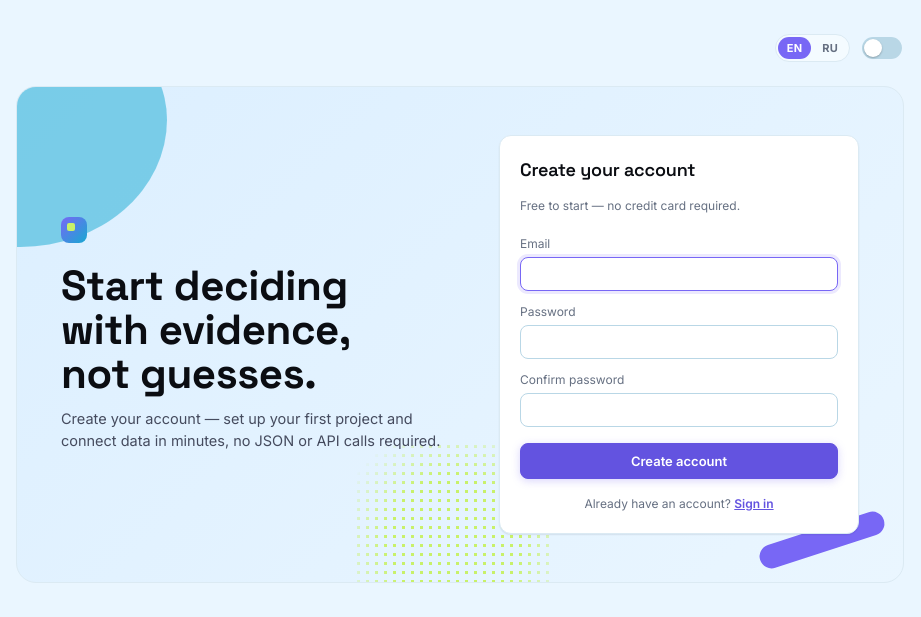
it: Register › shows the backend error for an already-registered email and does not attempt login
Type "taken@example.com" into the field labelled "Email" at (679, 274), box [520,256,838,290]
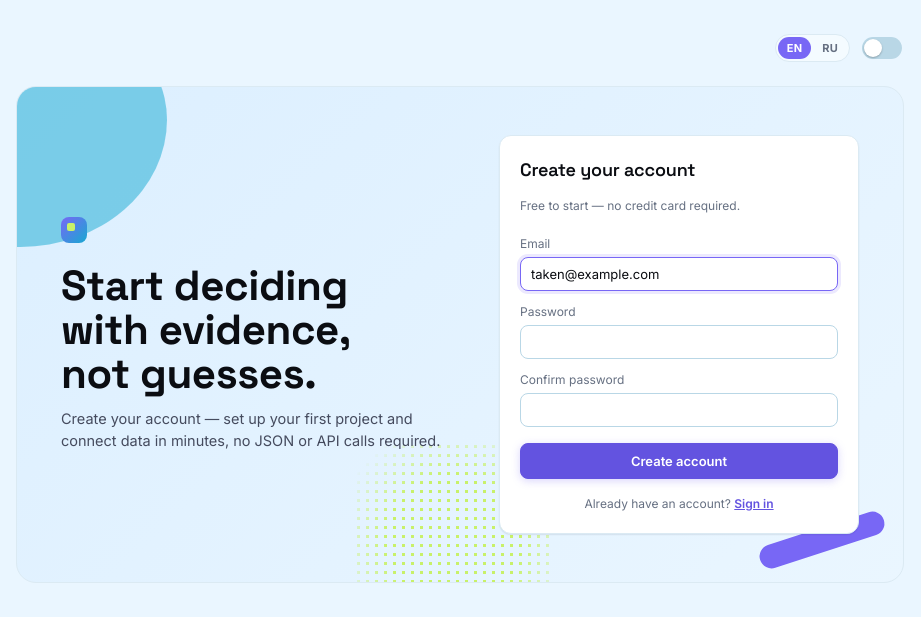
Type "longenoughpass" into the password field labelled "Password" at (679, 342), box [520,324,838,358]
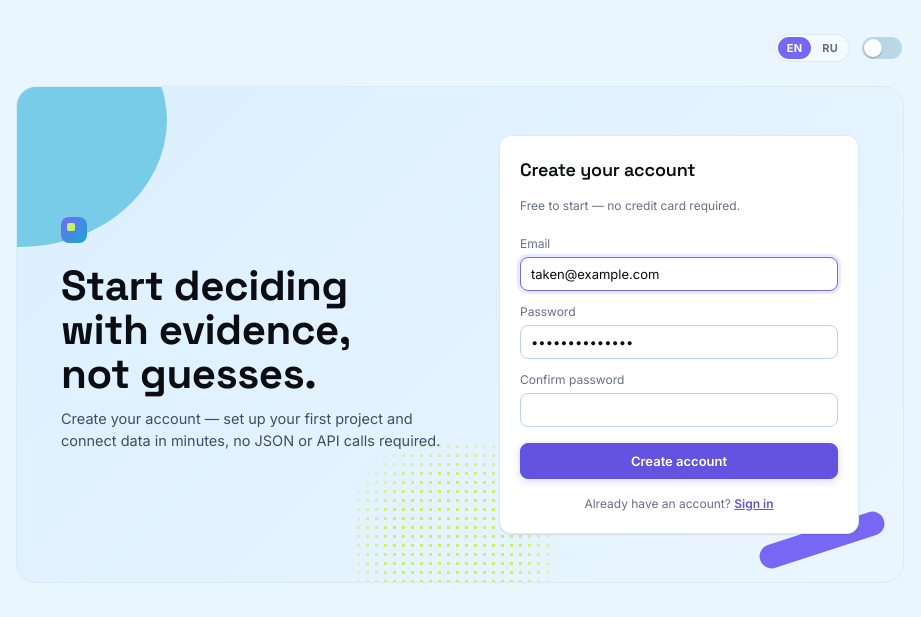
Type "longenoughpass" into the password field labelled "Confirm password" at (679, 410), box [520,392,838,426]
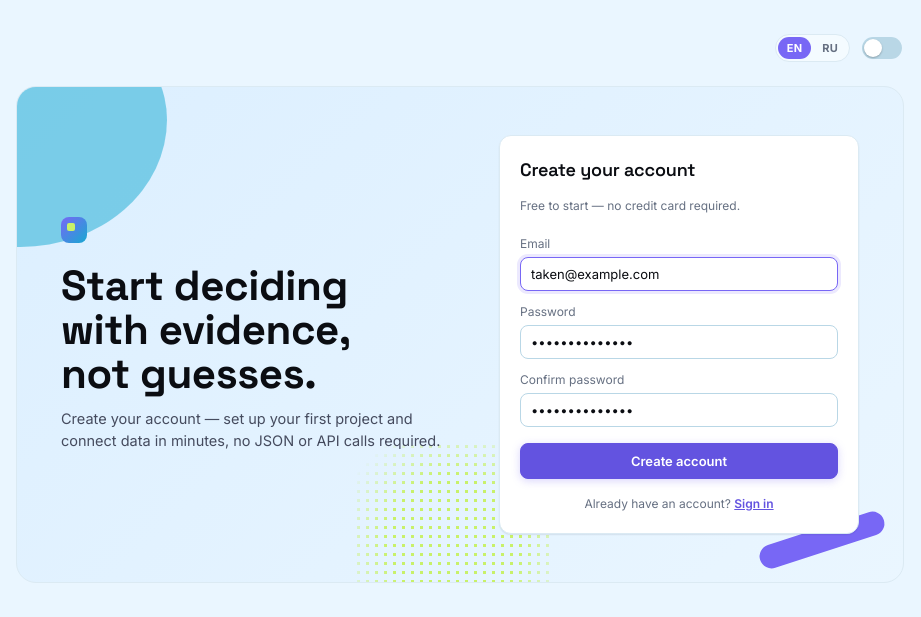
Click the button "Create account" at (679, 460), box [520,442,838,478]
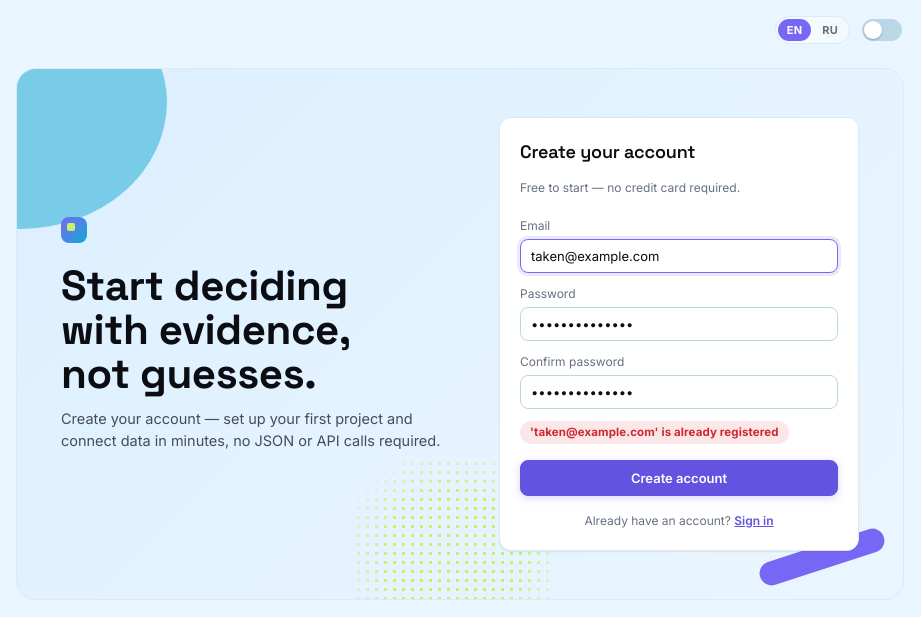
Now the text "'taken@example.com' is already registered" is shown, box [520,421,788,444]
